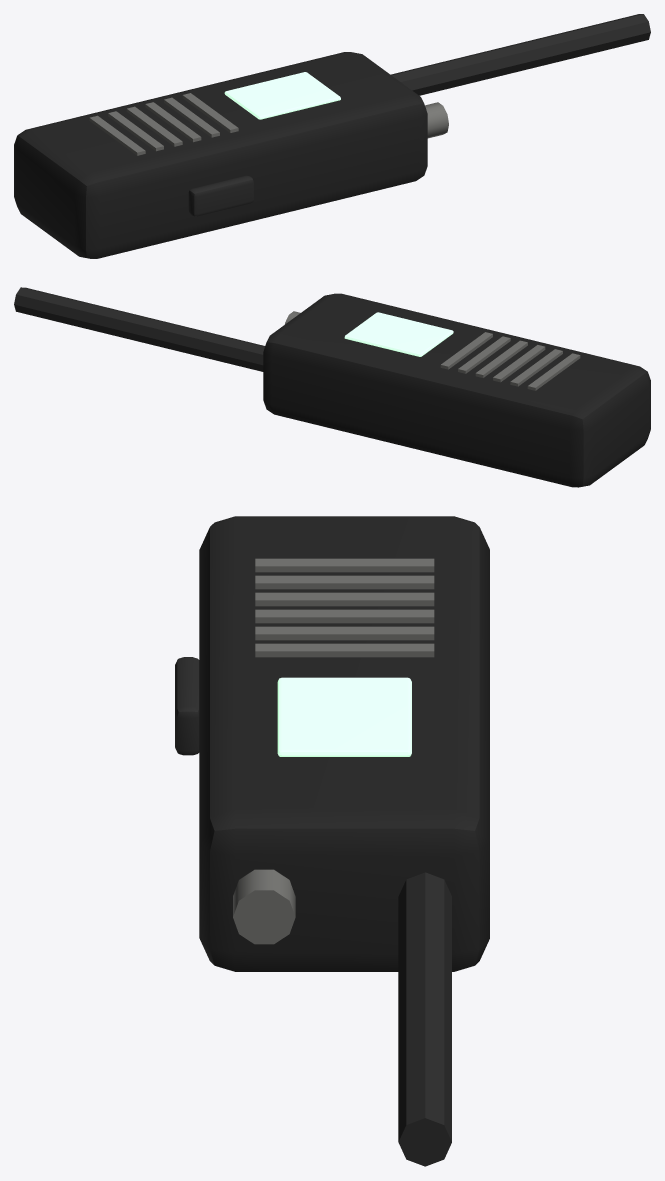
The model's file is SM_EQ_Walkie.fbx.
3 views of the same model, one above another, from view 1: azimuth 30°, elevation 25°; view 2: azimuth 150°, elevation 25°; view 3: azimuth 270°, elevation 25° (orthographic). The views are drawn at different scales.
Parts seen in each view (by area): view 1: SM_EQ_Walkie_1; view 2: SM_EQ_Walkie_1; view 3: SM_EQ_Walkie_1.
Boxes of the visible parts, x1,y1,x2,y2 form: SM_EQ_Walkie_1: [14, 14, 650, 258]; SM_EQ_Walkie_1: [14, 287, 650, 487]; SM_EQ_Walkie_1: [175, 516, 489, 1166].
Bounding box in the file's own units: 30 × 4.15 × 7.05.
